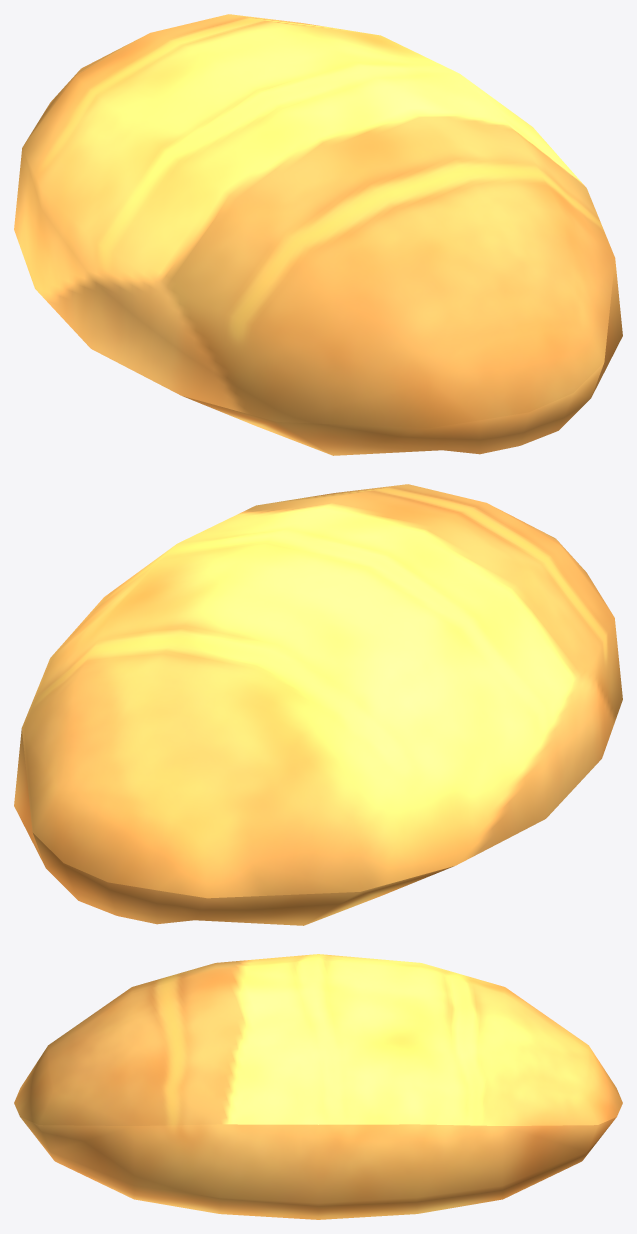
File: SM_Stylized_Food_Bread.fbx
3 views of the same model, one above another, from view 1: azimuth 30°, elevation 25°; view 2: azimuth 150°, elevation 25°; view 3: azimuth 270°, elevation 25° (orthographic). The views are drawn at different scales.
Visible parts, largest first — view 1: SM_Stylized_Food_Bread_LOD0; view 2: SM_Stylized_Food_Bread_LOD0; view 3: SM_Stylized_Food_Bread_LOD0.
Part boxes in pixels (x1,y1,x2,y2): SM_Stylized_Food_Bread_LOD0: (14, 14, 622, 455); SM_Stylized_Food_Bread_LOD0: (14, 484, 622, 925); SM_Stylized_Food_Bread_LOD0: (14, 954, 622, 1219).
Bounding box in the file's own units: 18.77 × 30.21 × 10.91.
